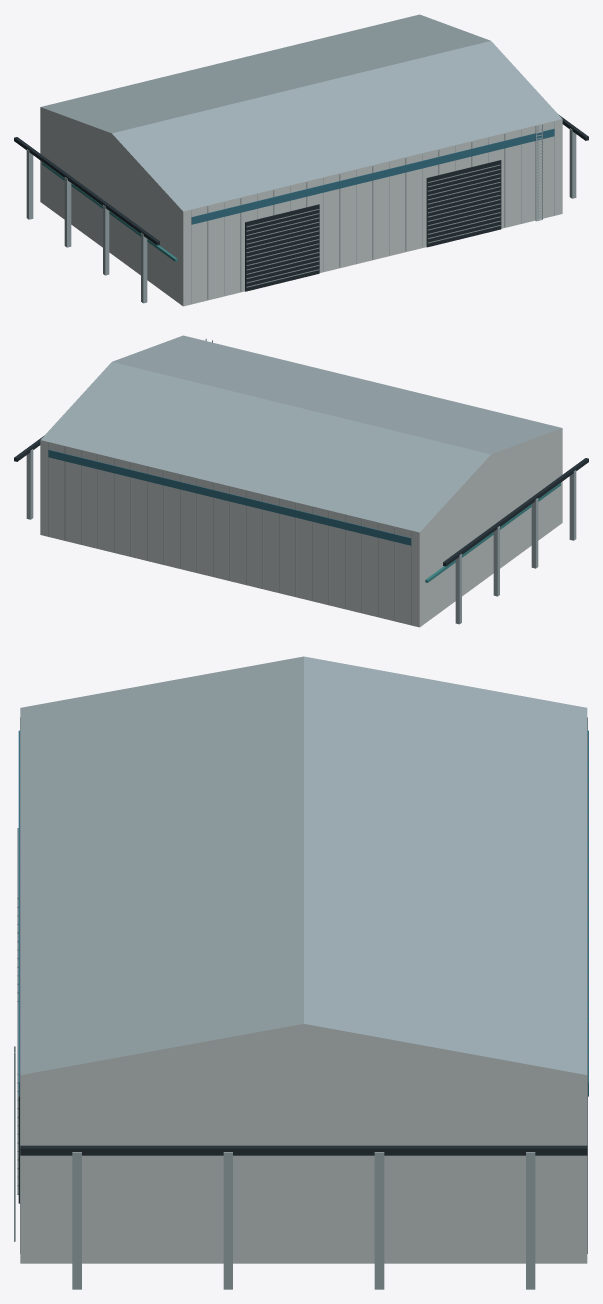
The model's file is shipyard-shop.glb.
3 renders of one model, top to bottom at view 1: azimuth 30°, elevation 25°; view 2: azimuth 150°, elevation 25°; view 3: azimuth 270°, elevation 25°, orthographic. The views are drawn at different scales.
Visible parts, largest first — view 1: Shop, Rails, Pipes; view 2: Shop, Rails, Pipes; view 3: Shop, Rails.
Part boxes in pixels (x1=…): Shop: x1=40, y1=14, x2=562, y2=306; Rails: x1=14, y1=114, x2=588, y2=303; Pipes: x1=42, y1=124, x2=542, y2=261; Shop: x1=40, y1=335, x2=562, y2=627; Rails: x1=14, y1=435, x2=588, y2=624; Pipes: x1=205, y1=338, x2=560, y2=582; Shop: x1=17, y1=656, x2=588, y2=1263; Rails: x1=20, y1=1145, x2=587, y2=1289.
Size of the model in its own units: 52.5 by 14 by 30.43.
